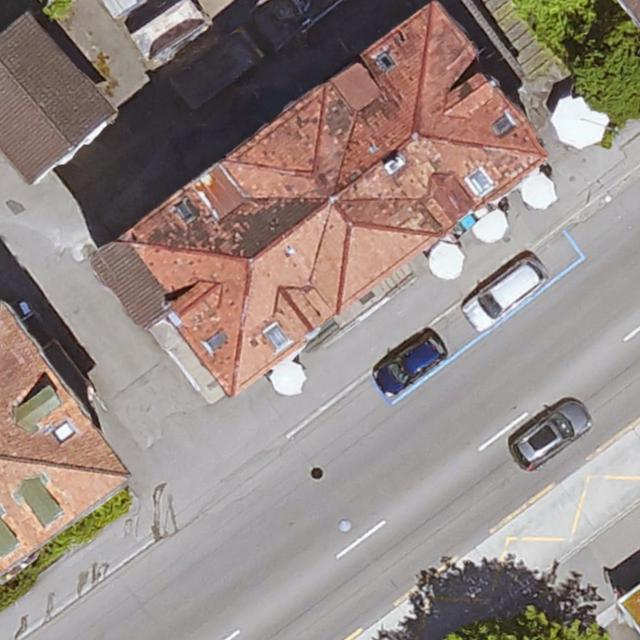tree: (576, 26, 640, 129), (444, 613, 603, 640), (521, 0, 597, 41)
